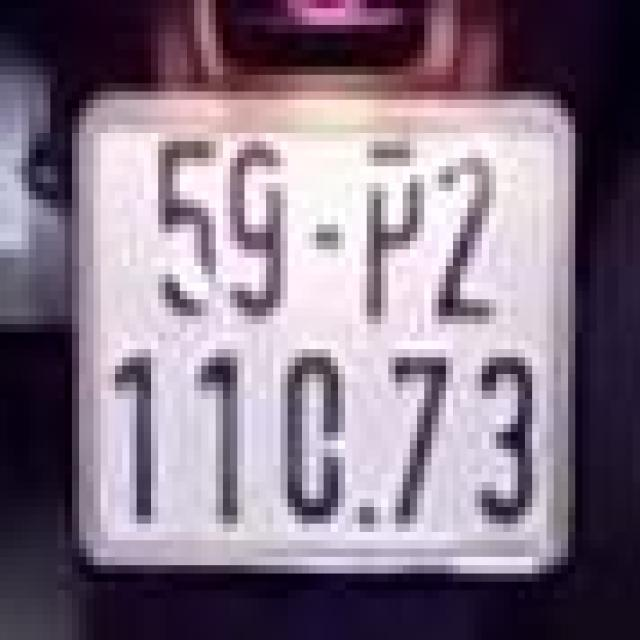0: (270, 337, 348, 536)
1: (180, 337, 252, 536), (101, 332, 165, 524)
2: (431, 129, 518, 345)
3: (457, 349, 543, 540)
5: (140, 125, 227, 324)
7: (378, 345, 457, 536)
9: (223, 133, 295, 324)
P: (352, 137, 432, 337)
